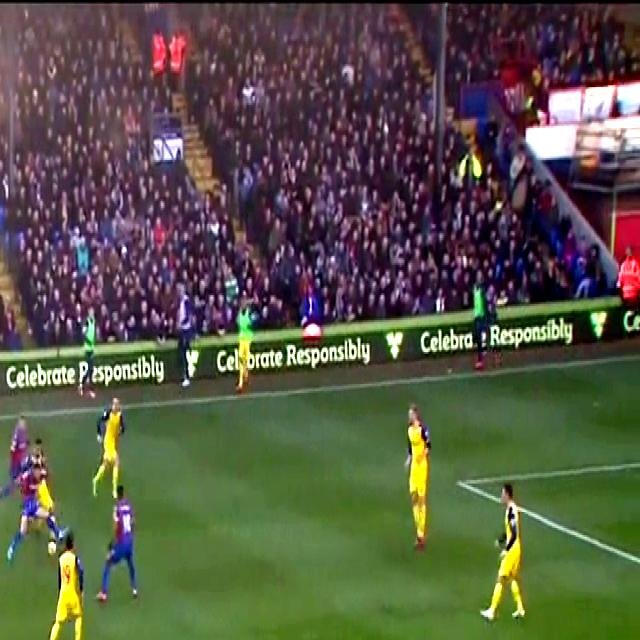ball: (47, 538, 57, 557)
soccer-player: (473, 478, 539, 632), (393, 400, 444, 558), (97, 490, 145, 610), (85, 398, 130, 506), (59, 531, 96, 640), (6, 464, 46, 558)
